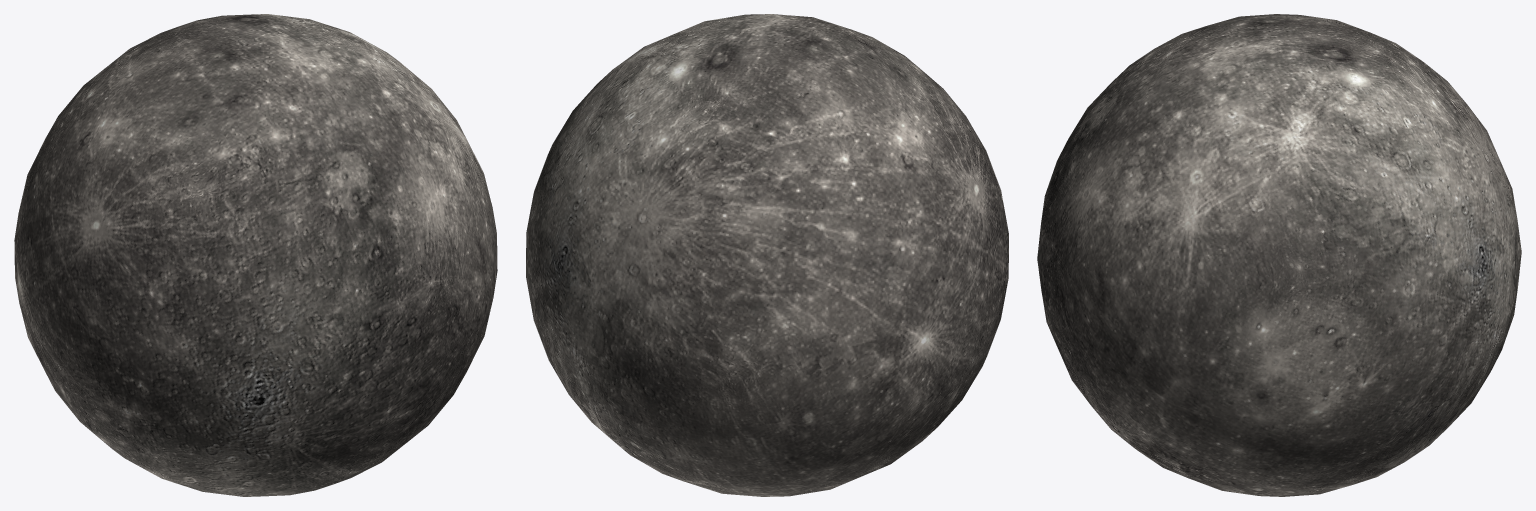
Rendered from Mercury 1K.glb.
The picture shows the model from 3 angles, left to right: view 1: azimuth 30°, elevation 25°; view 2: azimuth 150°, elevation 25°; view 3: azimuth 270°, elevation 25°; orthographic projection.
Parts seen in each view (by area): view 1: Mercury; view 2: Mercury; view 3: Mercury.
Boxes of the visible parts, x1,y1,x2,y2 form: Mercury: [14, 14, 497, 496]; Mercury: [526, 14, 1008, 496]; Mercury: [1037, 14, 1521, 496].
Size of the model in its own units: 0.4749 by 0.4743 by 0.4759.
Materials: 1 (1 with a texture image).
